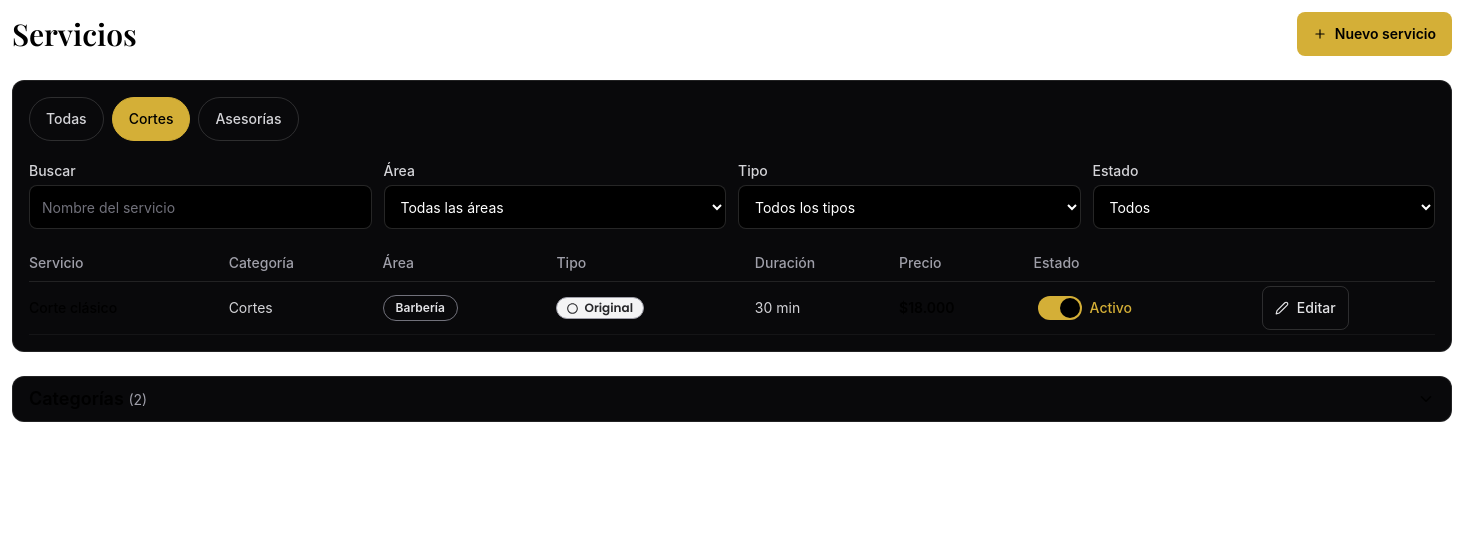
Test case: Servicios: área › tabla (escritorio): columna Área con la etiqueta de cada servicio
Expected: the element named "Categoría" is shown, [29, 97, 299, 141]
Click the button "Todas" at (66, 119), box [29, 97, 104, 141]
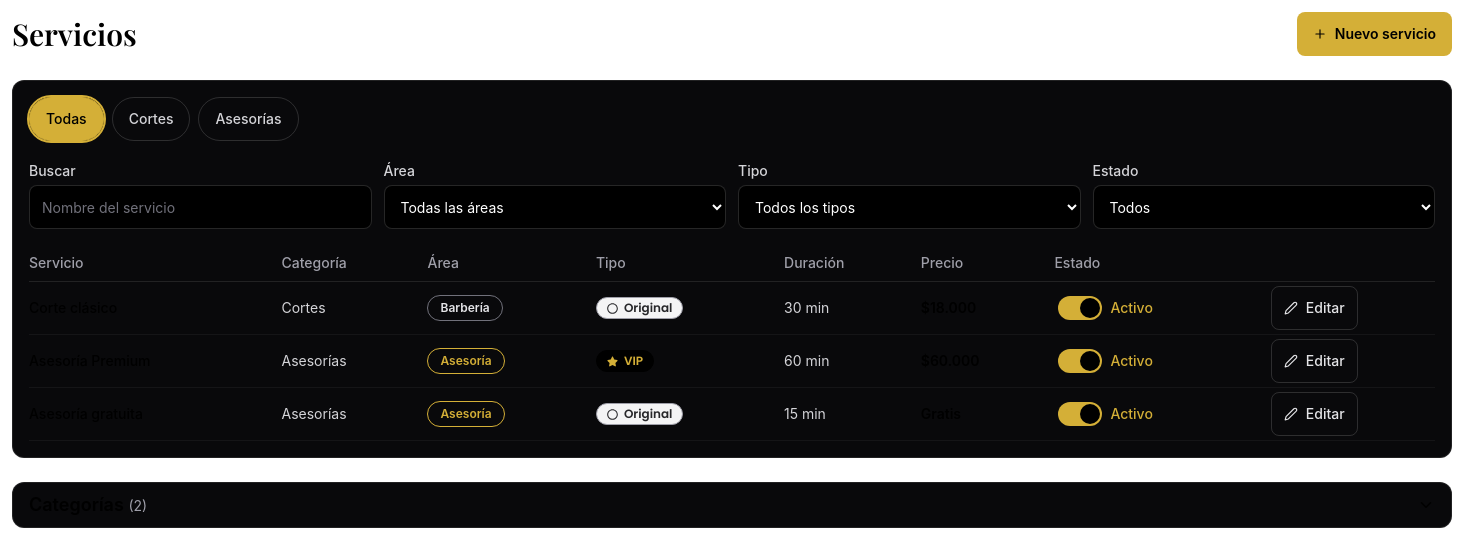
Expected: the column heading "Área" is shown, [428, 245, 596, 282]
Now the text "Asesoría" in the row of "Asesoría Premium" is shown, box [440, 353, 492, 368]
